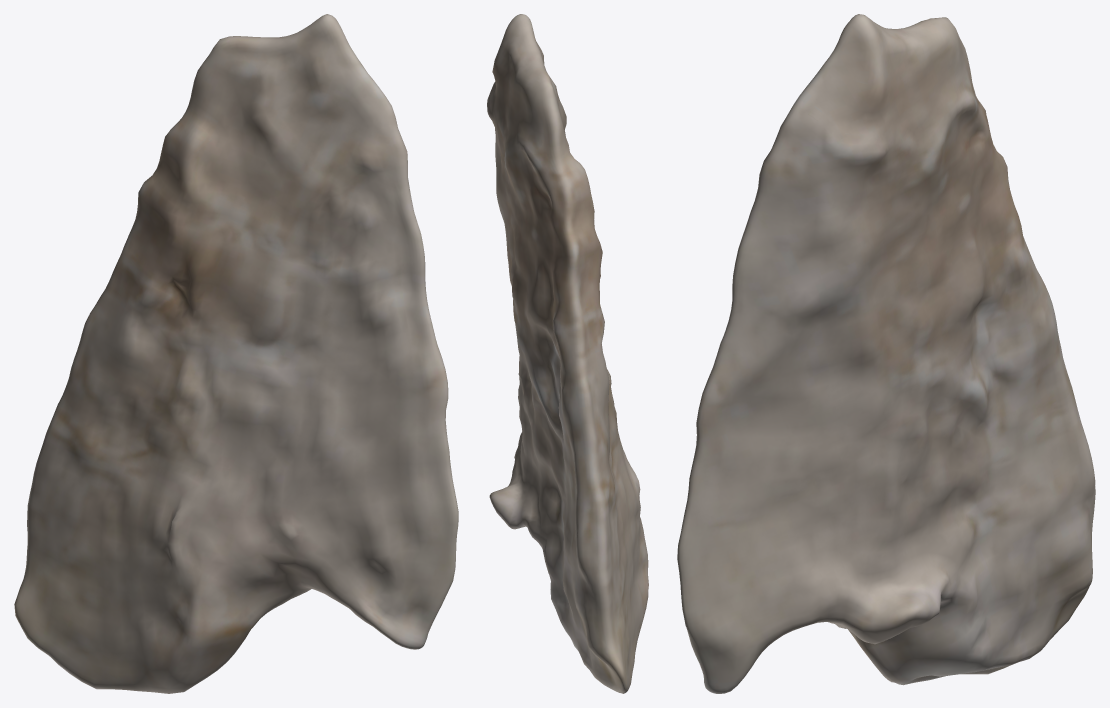
File: 06644ec02e7c_Rock_shard_in_the_s.fbx
3 renders of one model, left to right at view 1: azimuth 30°, elevation 25°; view 2: azimuth 150°, elevation 25°; view 3: azimuth 270°, elevation 25°, orthographic. The views are drawn at different scales.
Visible parts, largest first — view 1: mesh; view 2: mesh; view 3: mesh.
Boxes of the visible parts, box(x1,y1,x2,y2) form: mesh: box(14, 14, 458, 693); mesh: box(487, 14, 648, 693); mesh: box(677, 14, 1095, 693).
Bounding box in the file's own units: 40.76 × 99.33 × 49.92.
